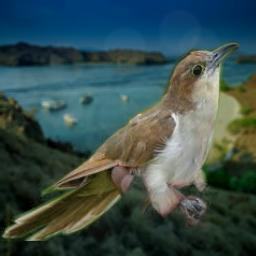Cuckoo: (1, 40, 239, 241)
